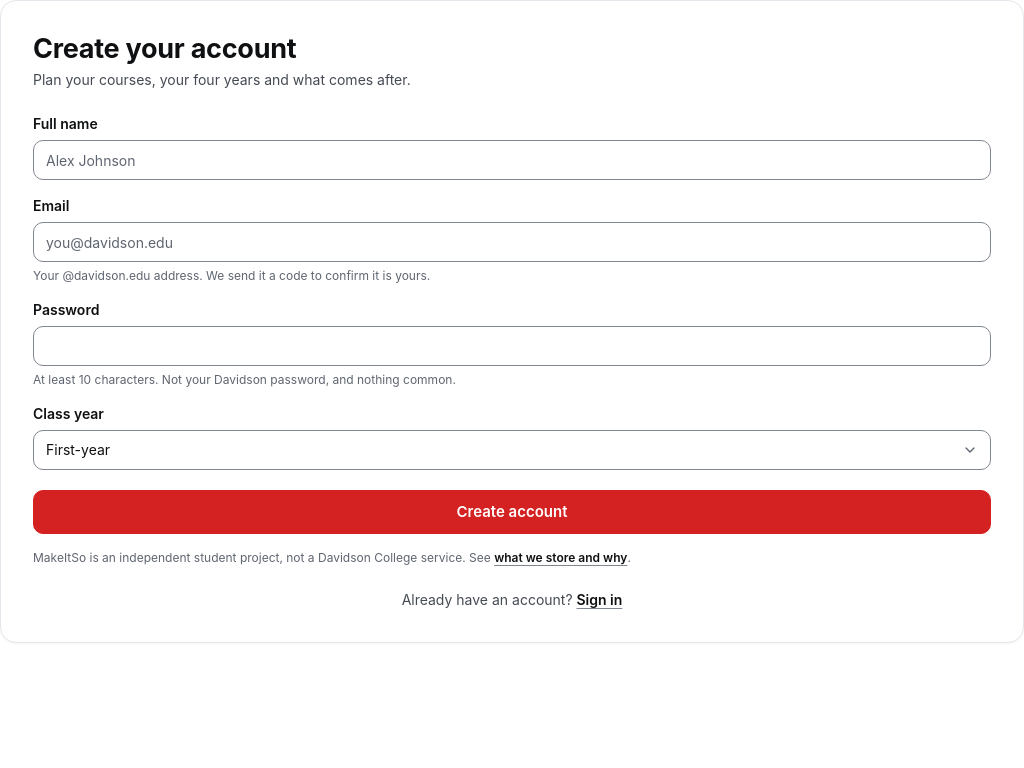
Test: RegisterForm › validates on the client with the shared schema before sending anything
Check: the dropdown named "Class year" reads "First-year", box [33,430,991,470]
Type "Casey Wildcat" into the field labelled "Full name".
click(512, 160); type("Casey Wildcat")  # box [33,140,991,180]
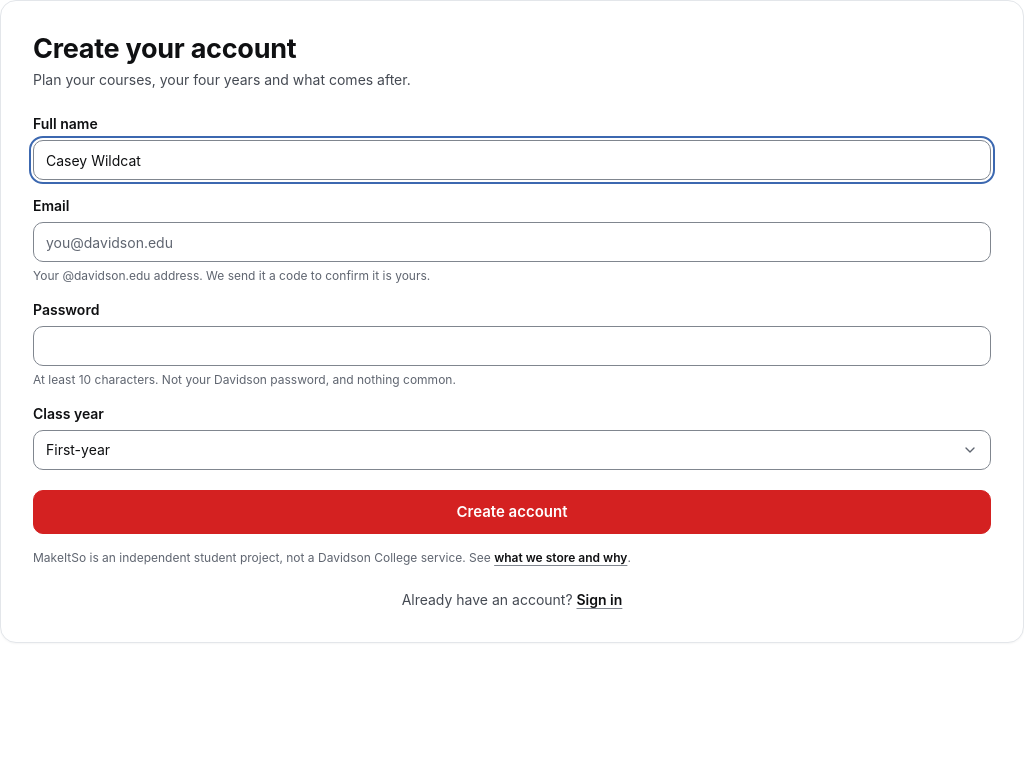
Type "casey@gmail.com" into the field labelled "Email".
click(512, 242); type("casey@gmail.com")  # box [33,222,991,262]
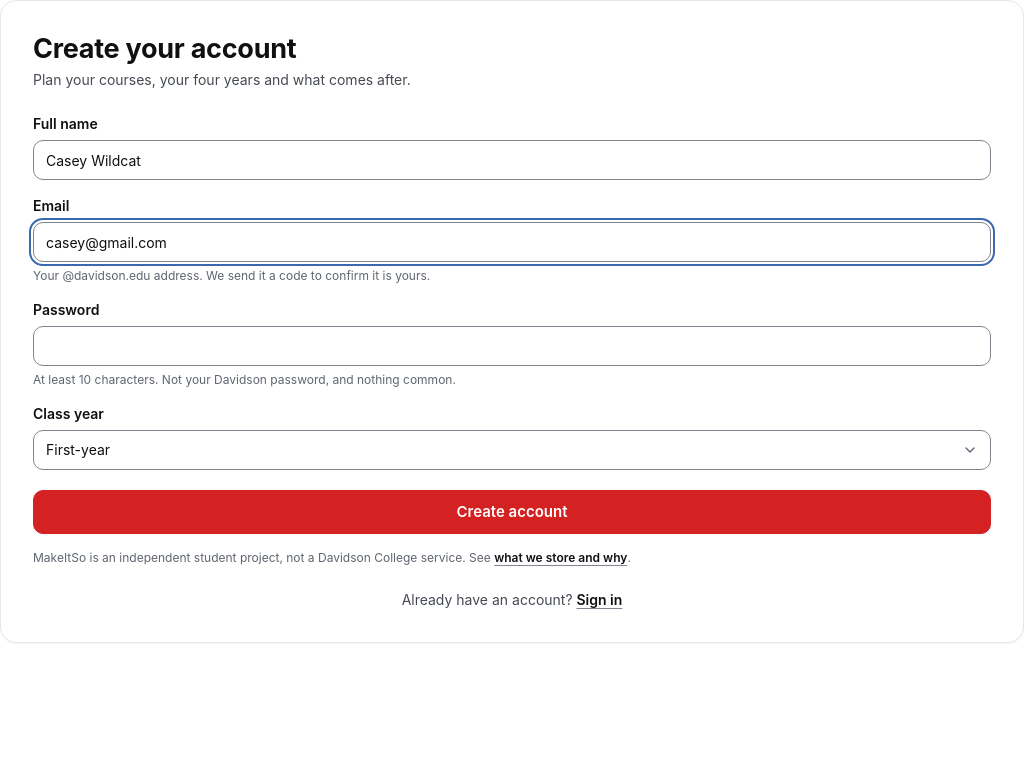
Type "short" into the password field labelled "Password".
click(512, 346); type("short")  # box [33,326,991,366]
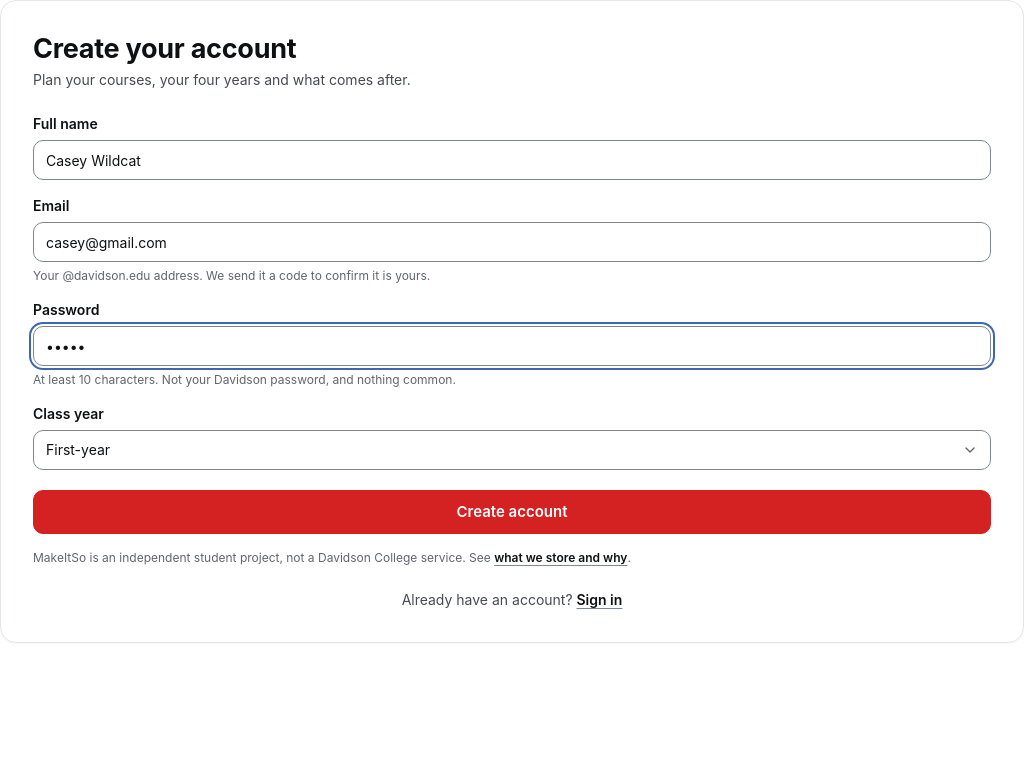
Click the button "Create account".
click(512, 512)  # box [33,490,991,534]
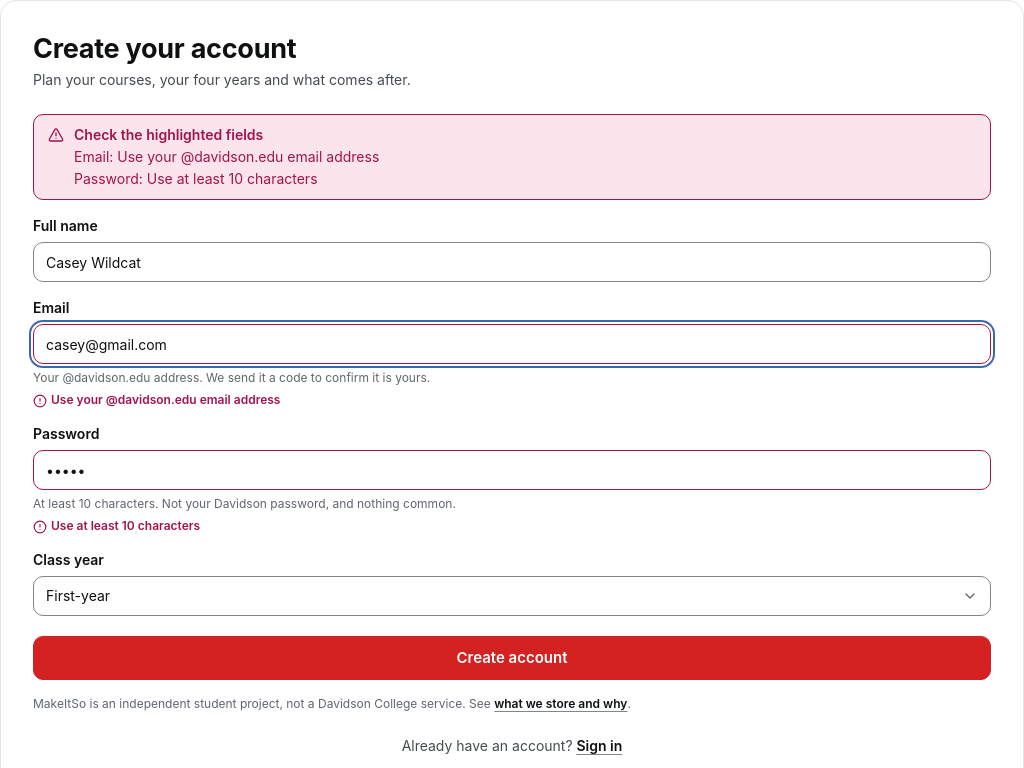
Check: the text "Use your @davidson.edu email address" is shown, box [51,392,280,408]
Check: the text "Use at least 10 characters" is shown, box [51,518,200,534]
